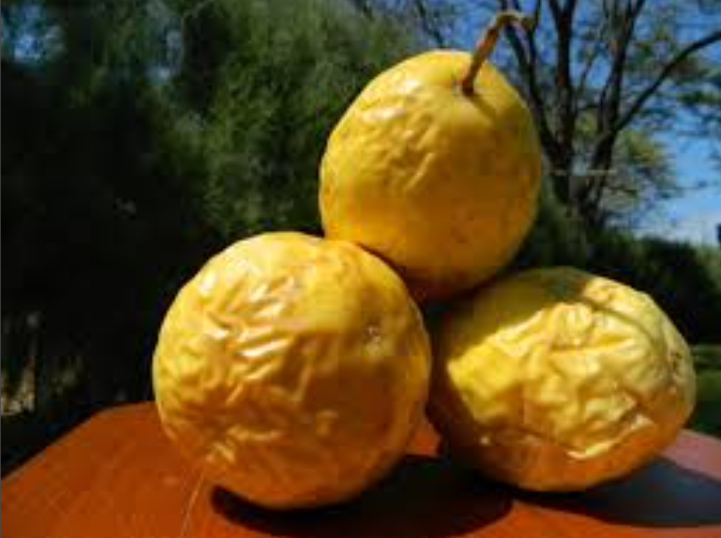maracuya: (150, 230, 433, 515), (411, 261, 702, 500), (319, 43, 541, 301)
